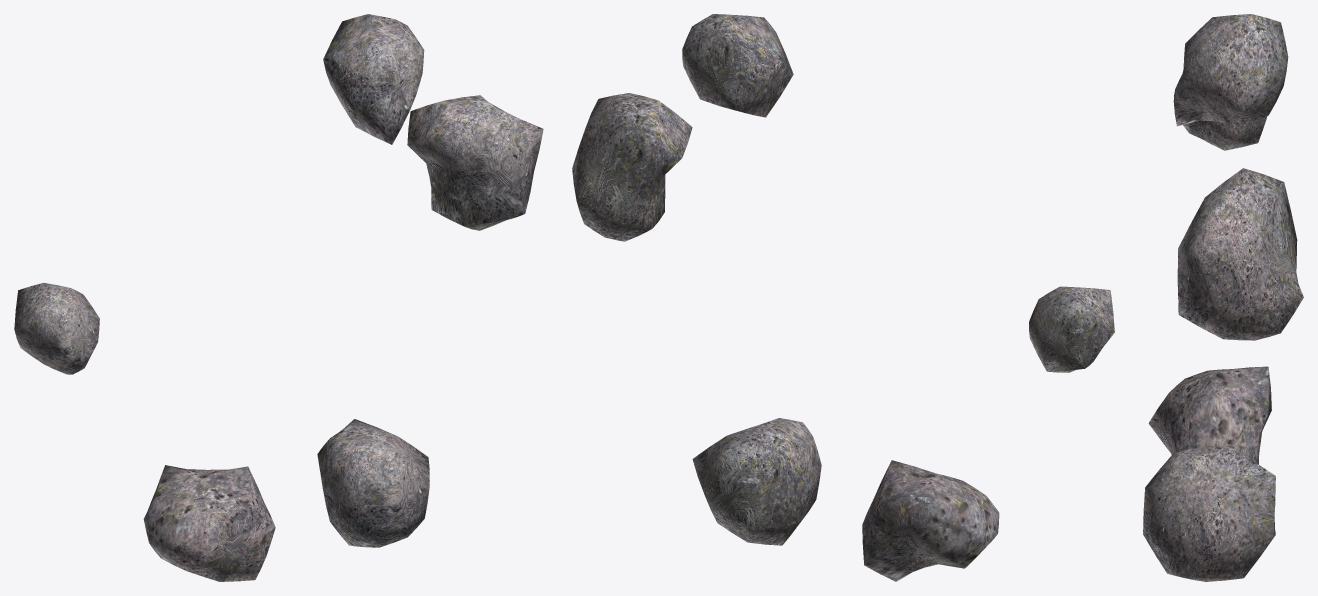
Rendered from campfire_stone1.obj.
The picture shows the model from 3 angles, left to right: view 1: azimuth 30°, elevation 25°; view 2: azimuth 150°, elevation 25°; view 3: azimuth 270°, elevation 25°; orthographic projection. The views are drawn at different scales.
Parts seen in each view (by area): view 1: campfire.002; view 2: campfire.002; view 3: campfire.002.
Part boxes in pixels (left/top/right/bottom): campfire.002: left=14, top=14, right=543, bottom=581; campfire.002: left=572, top=14, right=1114, bottom=581; campfire.002: left=1143, top=14, right=1303, bottom=581.
Bounding box in the file's own units: 0.2867 × 0.2748 × 0.0692.
